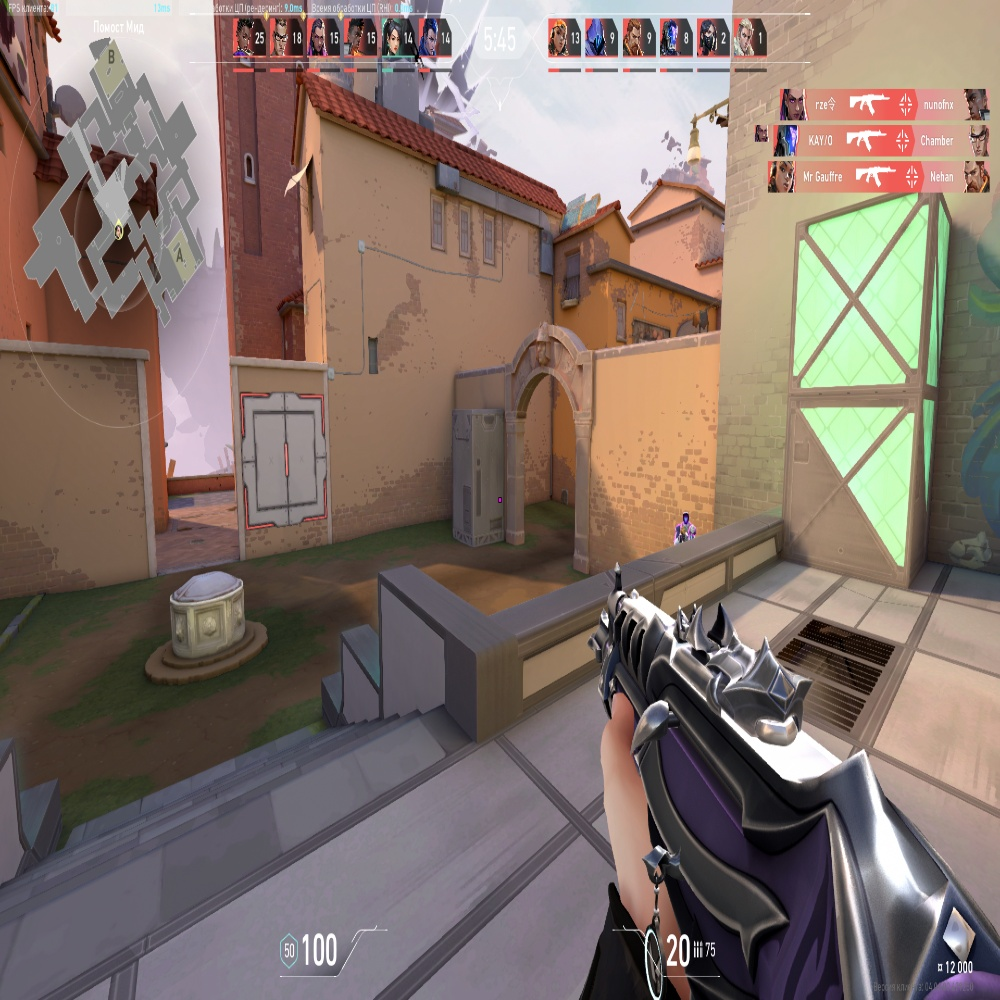body: (676, 527, 695, 541)
head: (683, 512, 690, 525)
